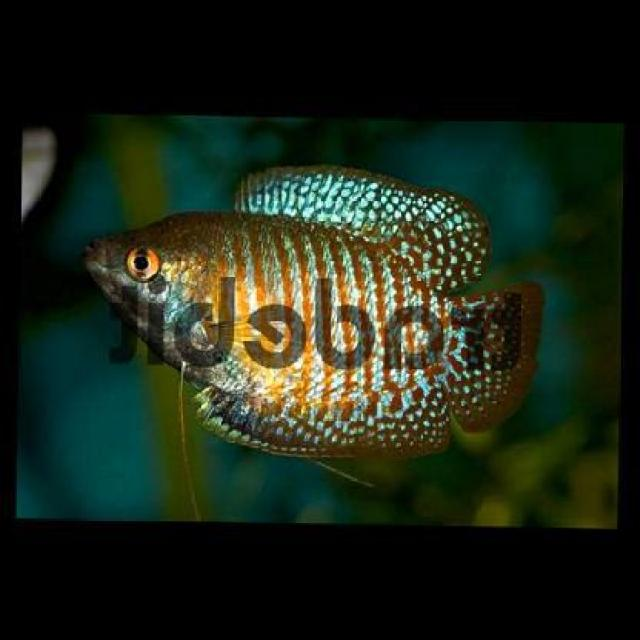Gourami: (80, 159, 545, 459)
